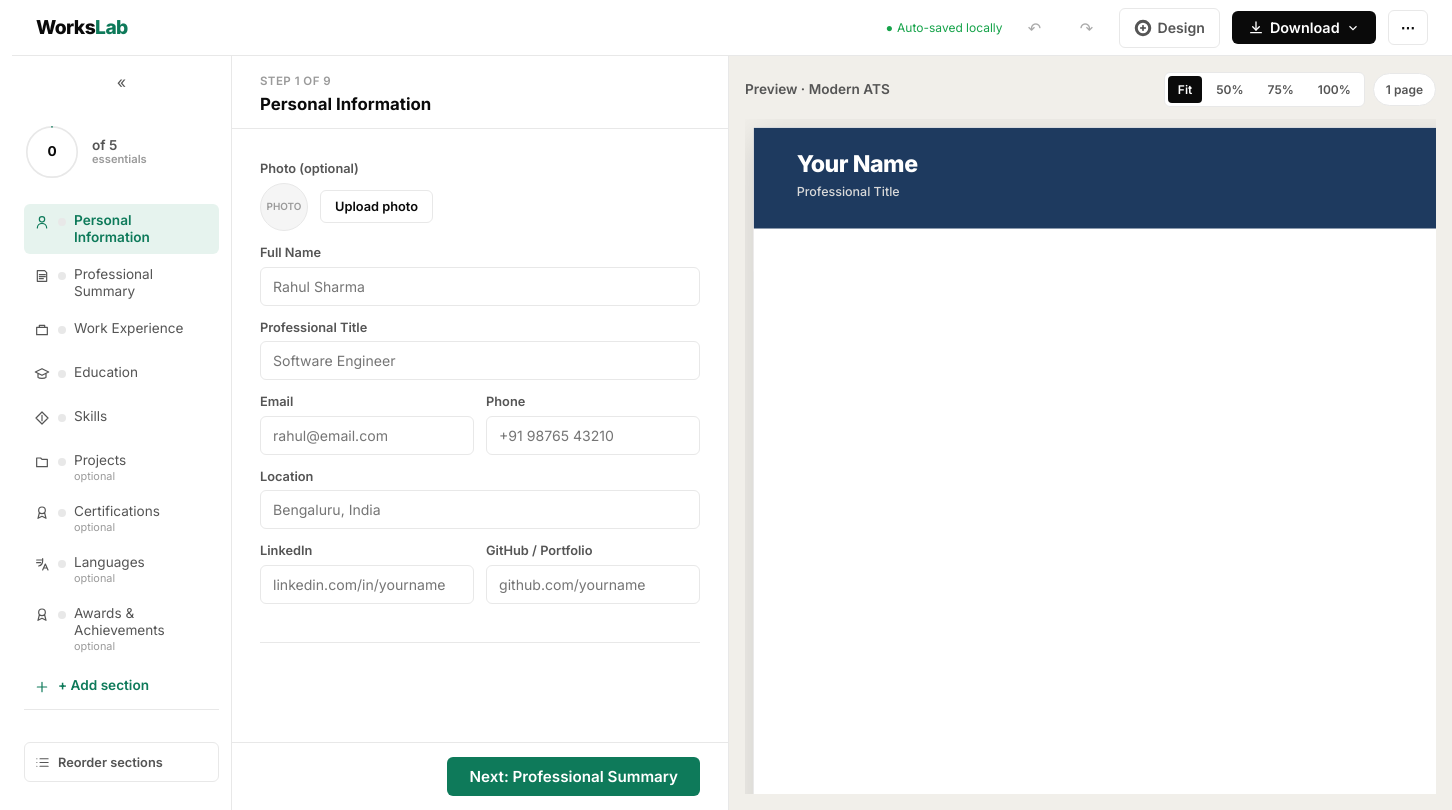
Scenario: Builder step flow › jumping to a step via the rail shows that step and marks it current
This screenshot has width=1452, height=810.
Click the button "Work Experience". click: click(122, 332)
box: top-left (24, 312), bottom-right (219, 352)
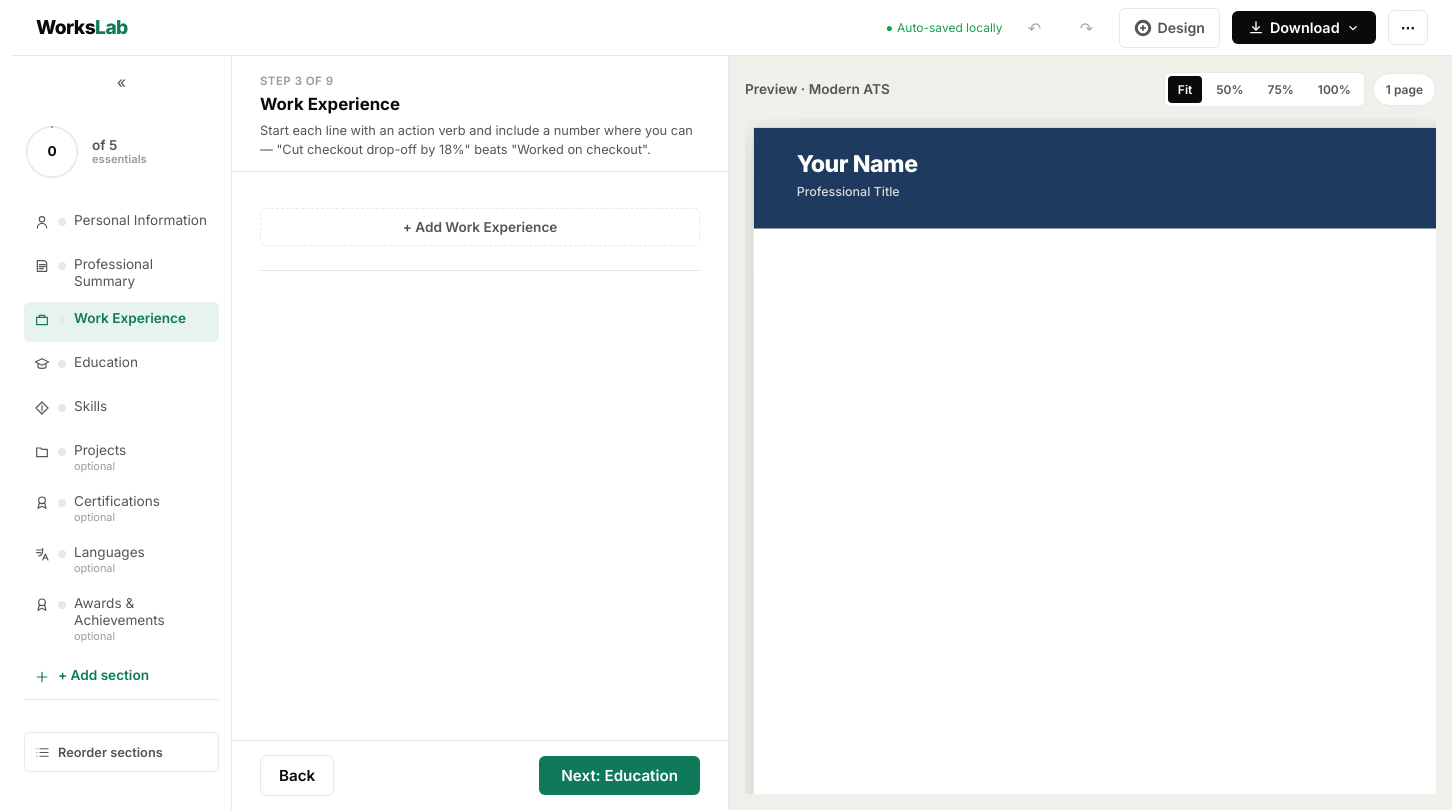
Now the heading "Work Experience" is shown, box top-left (260, 94), bottom-right (400, 114)
